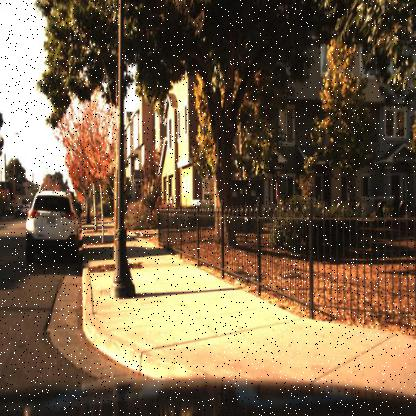car: (23, 187, 81, 265)
